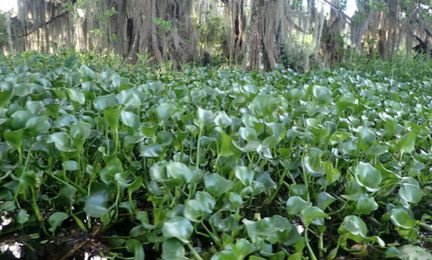water_hyacinth: (0, 68, 432, 260)
